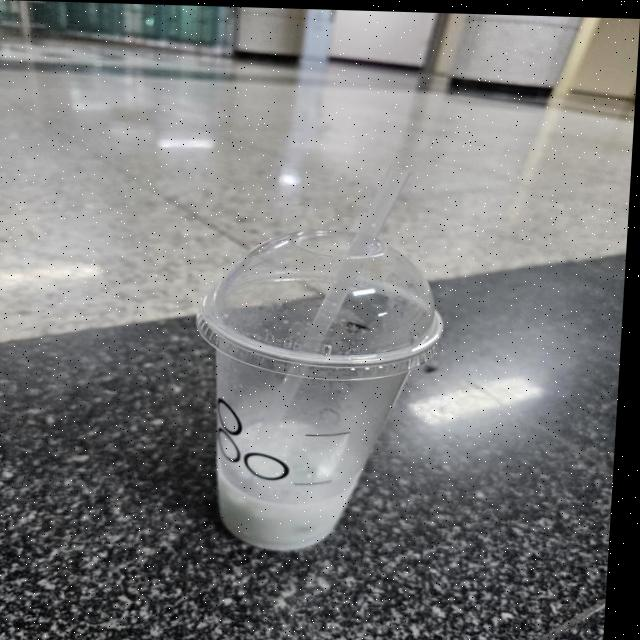cup: (182, 215, 459, 558)
